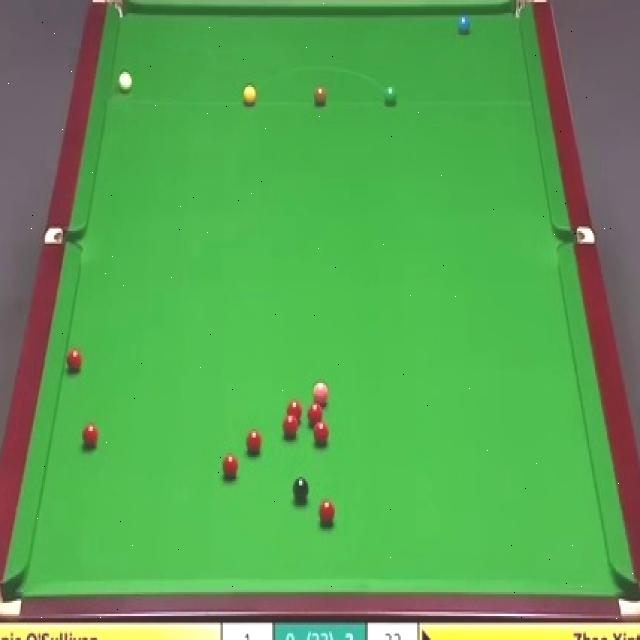black-ball: (293, 475, 311, 506)
blue-ball: (456, 11, 473, 38)
brown-ball: (313, 86, 328, 108)
green-ball: (383, 85, 398, 108)
pink-ball: (310, 379, 330, 406)
red-ball: (81, 422, 100, 452), (319, 500, 338, 527), (281, 414, 299, 440), (65, 347, 82, 374), (222, 452, 238, 480), (246, 428, 262, 456), (285, 399, 303, 422), (306, 403, 324, 424), (314, 420, 329, 445)
white-ball: (116, 68, 134, 95)
yellow-ball: (243, 84, 257, 107)
